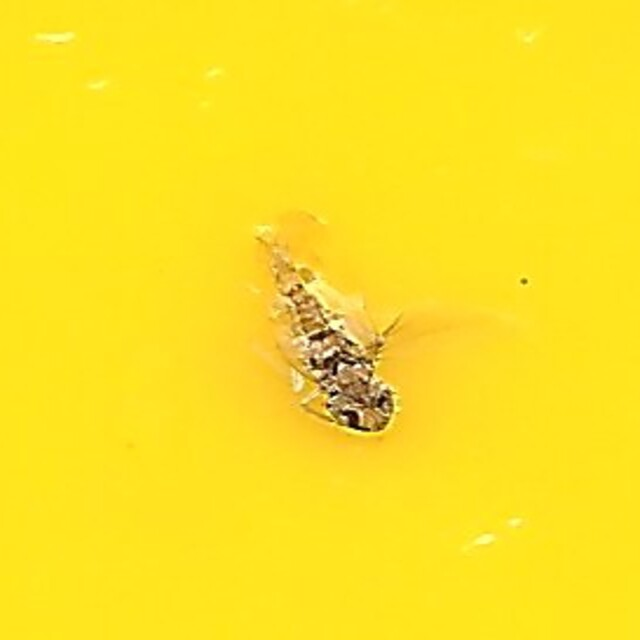Hemiptera: (234, 200, 406, 440)
